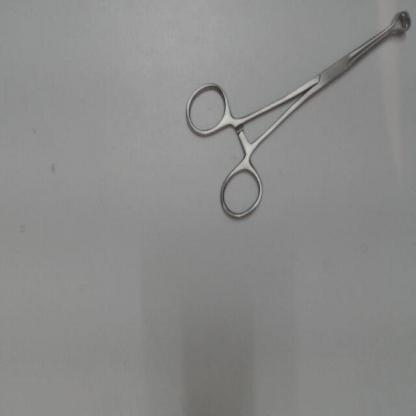Babcock Tissue Forceps: (181, 5, 414, 224)
